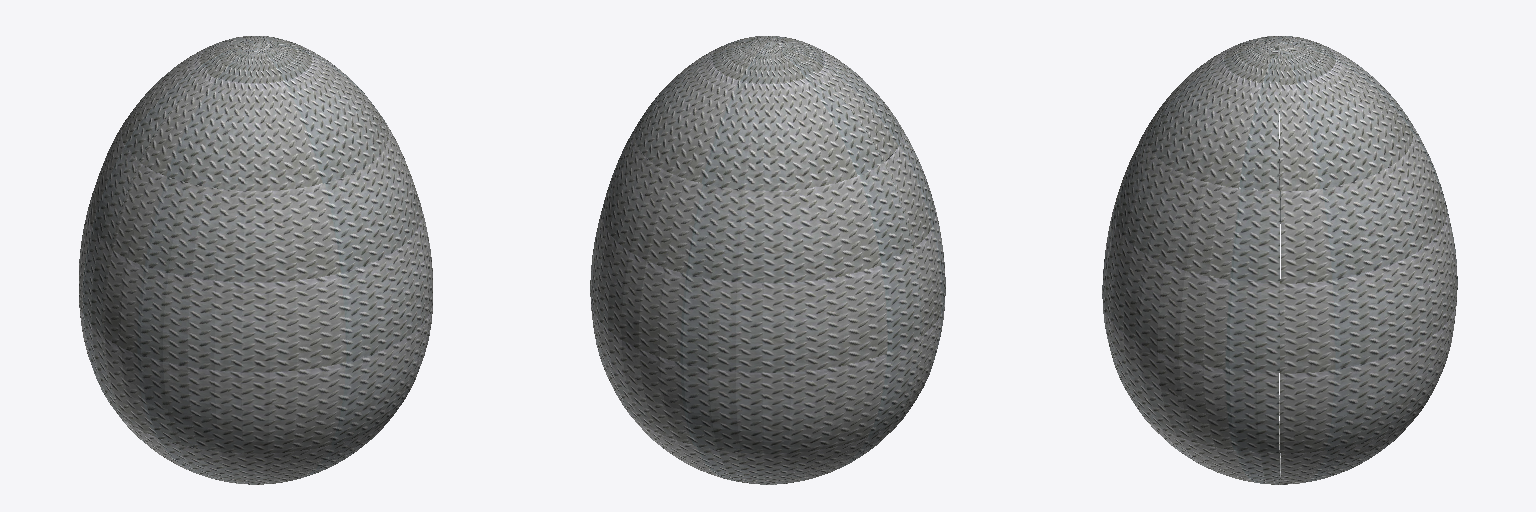
3 renders of one model, left to right at view 1: azimuth 30°, elevation 25°; view 2: azimuth 150°, elevation 25°; view 3: azimuth 270°, elevation 25°, orthographic.
Parts seen in each view (by area): view 1: egg:Mesh; view 2: egg:Mesh; view 3: egg:Mesh.
Part boxes in pixels (x1,y1,x2,y2): egg:Mesh: (79,36,432,484); egg:Mesh: (590,36,945,484); egg:Mesh: (1102,36,1457,484).
Bounding box in the file's own units: 3.05 × 4.05 × 3.05.
1 materials, 1 textured.